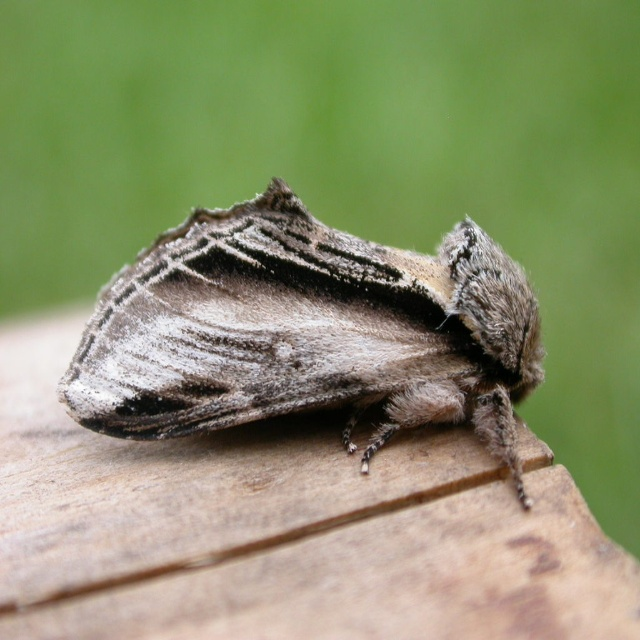Moths and butterflies: (51, 172, 546, 515)
